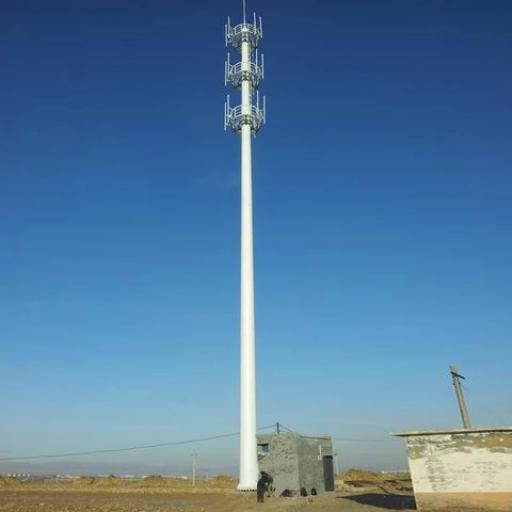monopole_tower: (222, 14, 268, 506)
